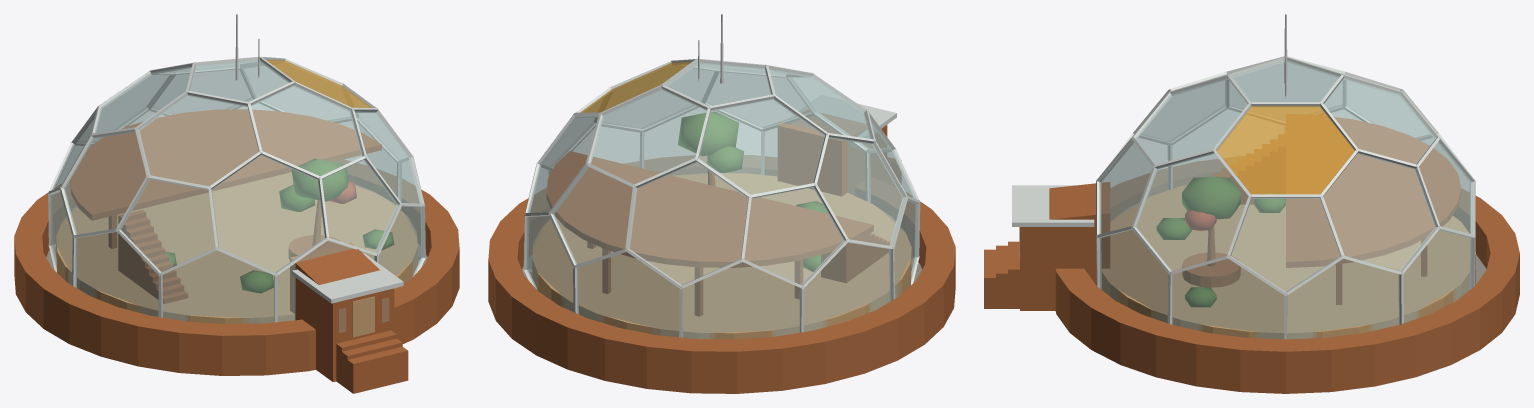
Rendered from dome.glb.
3 renders of one model, left to right at view 1: azimuth 30°, elevation 25°; view 2: azimuth 150°, elevation 25°; view 3: azimuth 270°, elevation 25°, orthographic. The views are drawn at different scales.
Visible parts, largest first — view 1: dome; view 2: dome; view 3: dome.
Boxes of the visible parts, <box> form: dome: <box>14,14,459,393</box>; dome: <box>488,14,955,393</box>; dome: <box>984,14,1519,393</box>.
Size of the model in its own units: 17.6 by 11.65 by 20.15.
